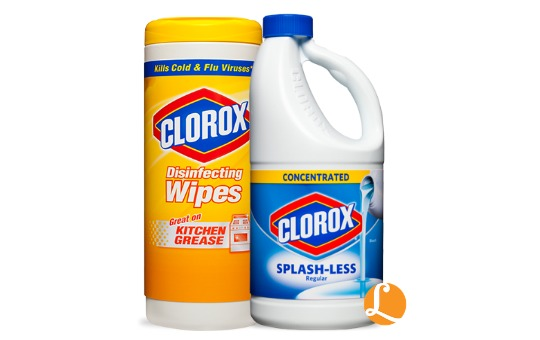Wipes: (140, 12, 262, 335)
